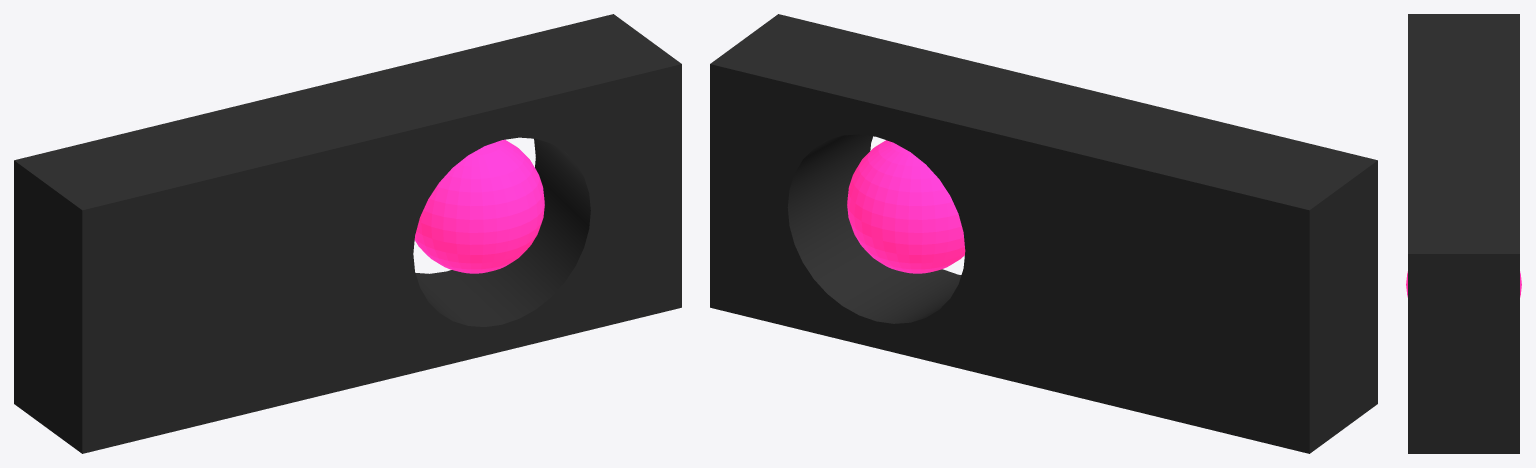
The picture shows the model from 3 angles, left to right: view 1: azimuth 30°, elevation 25°; view 2: azimuth 150°, elevation 25°; view 3: azimuth 270°, elevation 25°; orthographic projection. The views are drawn at different scales.
Visible parts, largest first — view 1: cube, sphere; view 2: cube, sphere; view 3: cube.
Part boxes in pixels (<box>): cube: <box>14,14,681,453</box>; sphere: <box>414,139,544,273</box>; cube: <box>710,14,1377,453</box>; sphere: <box>847,140,965,273</box>; cube: <box>1408,14,1519,453</box>.
Size of the model in its own units: 7.86 by 3.05 by 1.6.
